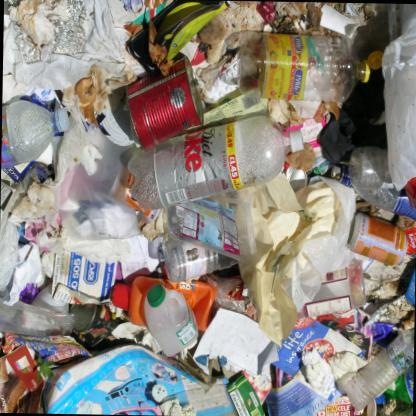Garbage: (0, 0, 412, 415), (33, 231, 209, 355), (340, 2, 415, 273), (226, 250, 360, 387), (0, 134, 102, 286), (211, 24, 364, 112), (134, 117, 272, 206), (147, 182, 250, 296), (263, 296, 365, 398), (122, 3, 222, 88), (201, 314, 265, 388), (250, 2, 364, 34), (0, 333, 43, 411), (13, 181, 54, 247), (70, 76, 113, 113), (12, 6, 52, 45)
